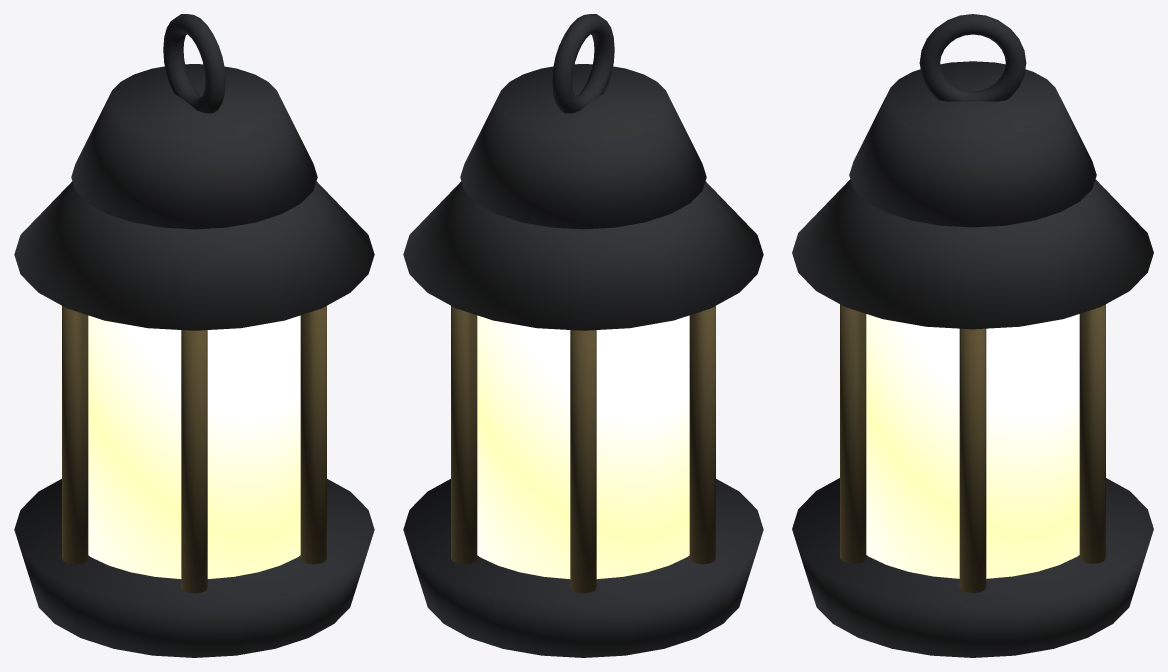
The model's file is ship_lantern.37b21915.glb.
3 views of the same model, side by side, from view 1: azimuth 30°, elevation 25°; view 2: azimuth 150°, elevation 25°; view 3: azimuth 270°, elevation 25° (orthographic).
Visible parts, largest first — view 1: ship_lantern_body, glass; view 2: ship_lantern_body, glass; view 3: ship_lantern_body, glass.
Part boxes in pixels (x1,y1,x2,y2): ship_lantern_body: (14, 14, 374, 657); glass: (88, 315, 300, 578); ship_lantern_body: (403, 14, 763, 657); glass: (477, 315, 689, 578); ship_lantern_body: (792, 14, 1153, 657); glass: (866, 314, 1079, 578).
Bounding box in the file's own units: 0.38 × 0.666 × 0.38.
2 materials, 1 textured.
